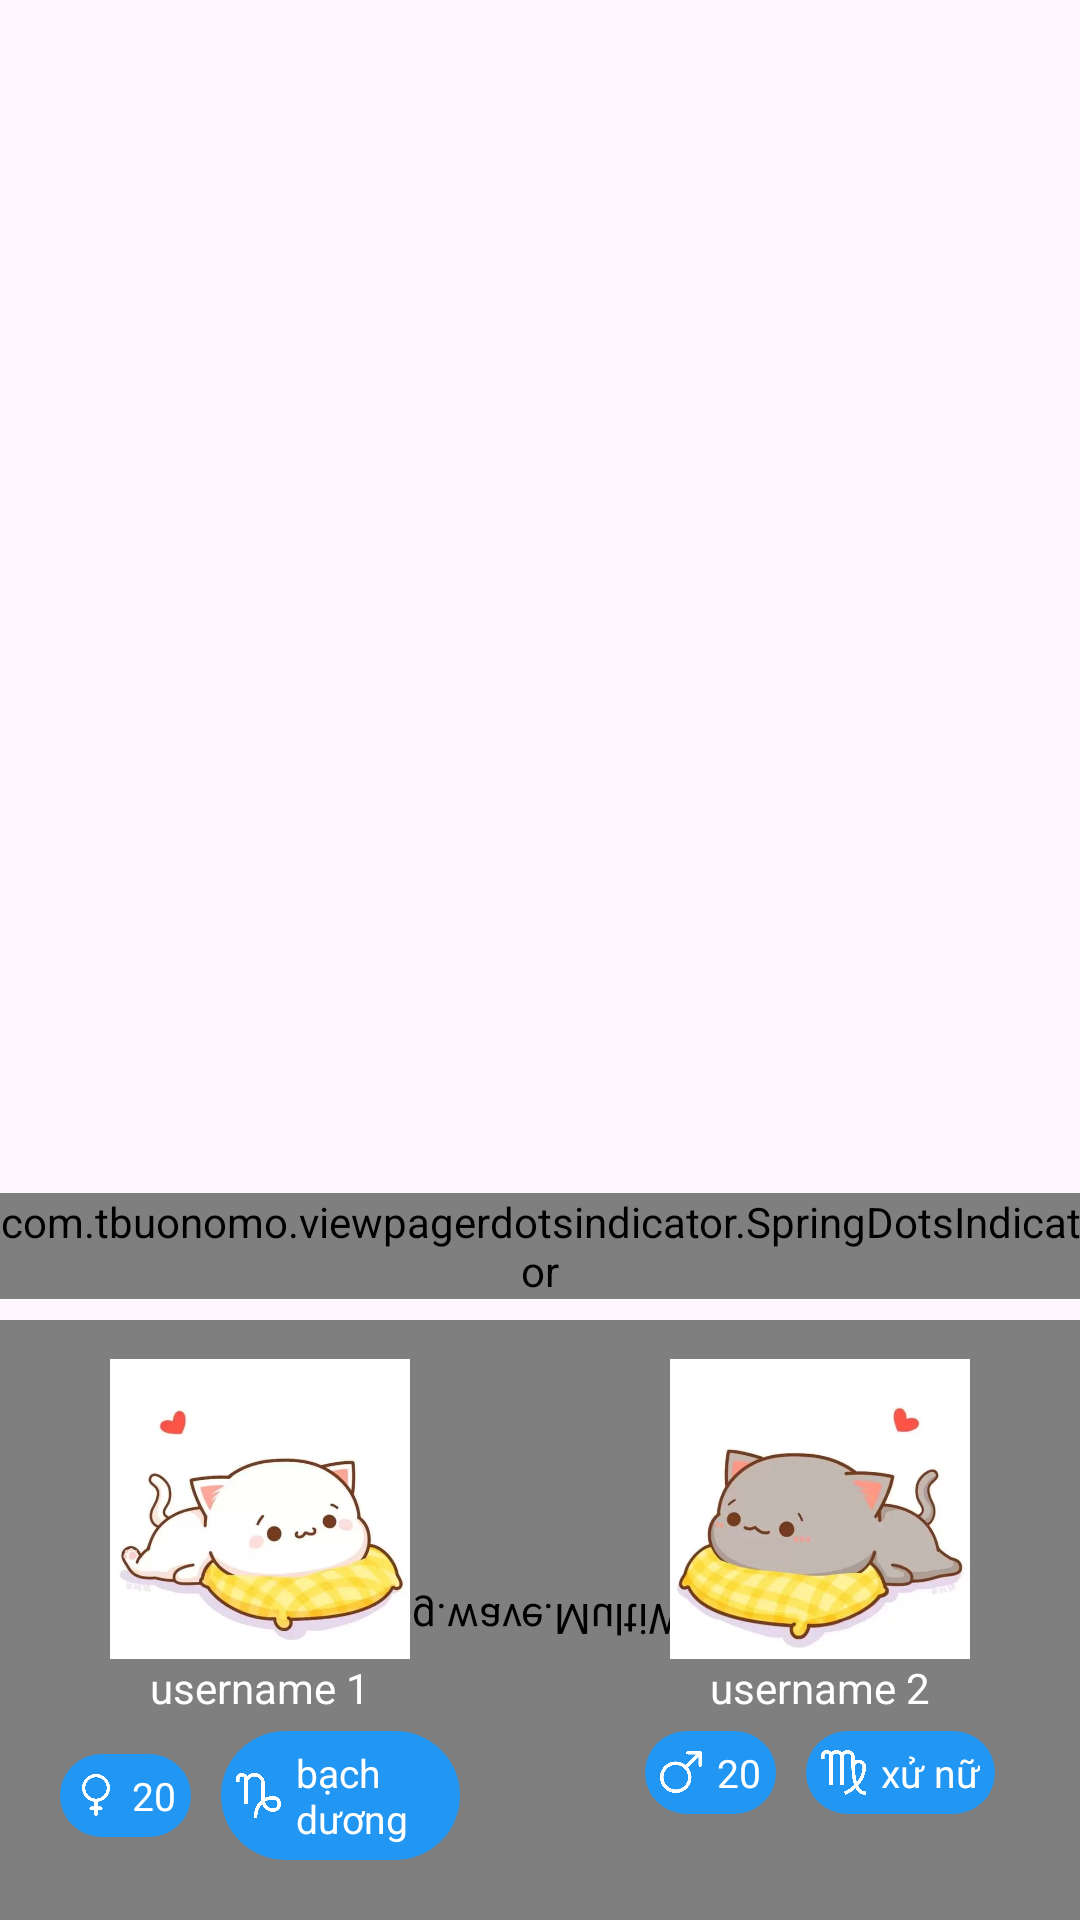

Where to tap for icons on this 1080w x 1920h app screen, as (x,y):
female: (96,1795)
ma ket: (258,1795)
male: (681,1772)
xu nu: (843,1772)
